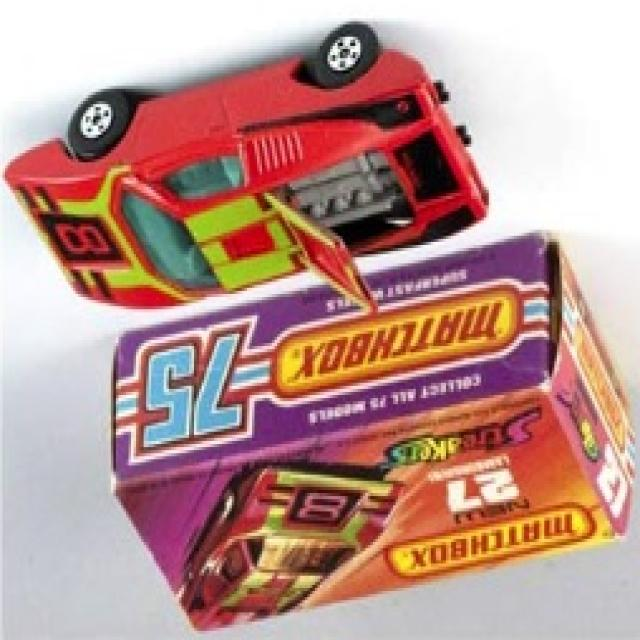Car: (2, 24, 492, 316)
